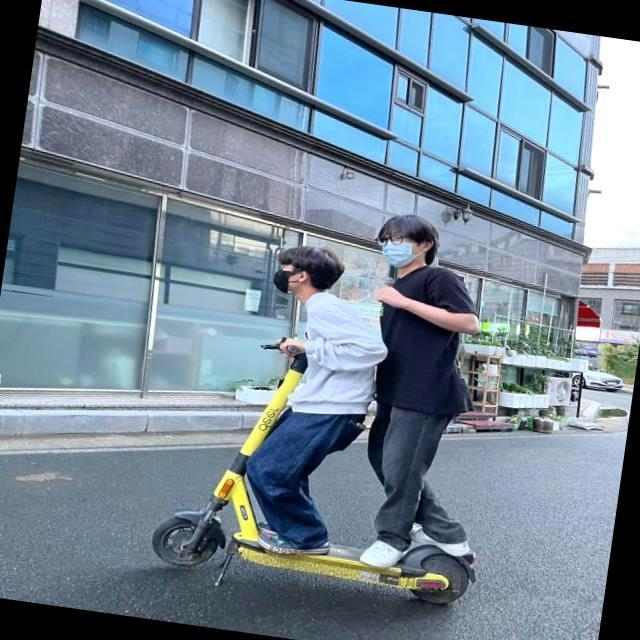bare_head: (371, 209, 440, 274), (267, 248, 344, 297)
human: (363, 208, 478, 567), (251, 241, 374, 557)
kickboard: (149, 496, 479, 615)
